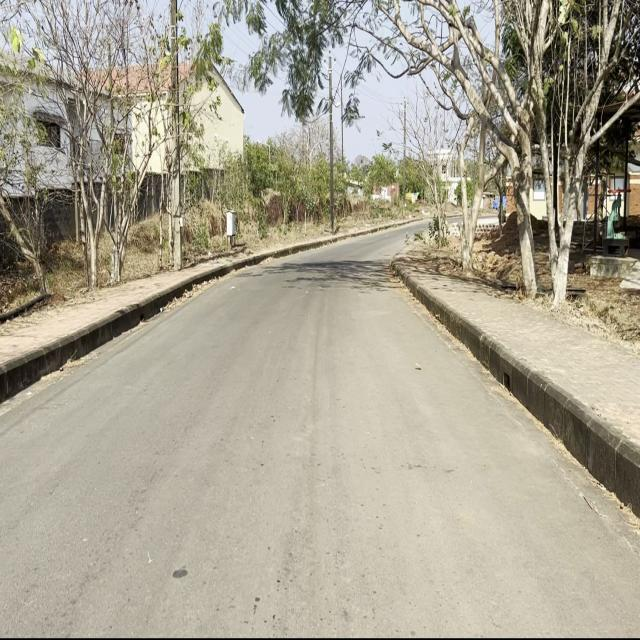Road: (3, 252, 636, 632)
